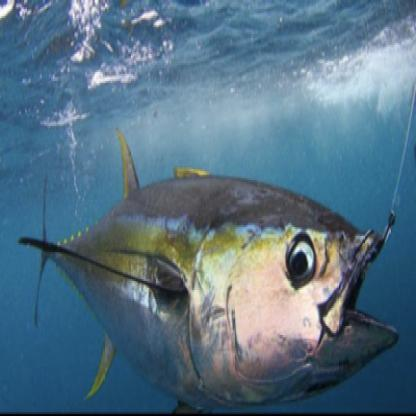tuna: (15, 127, 401, 412)
